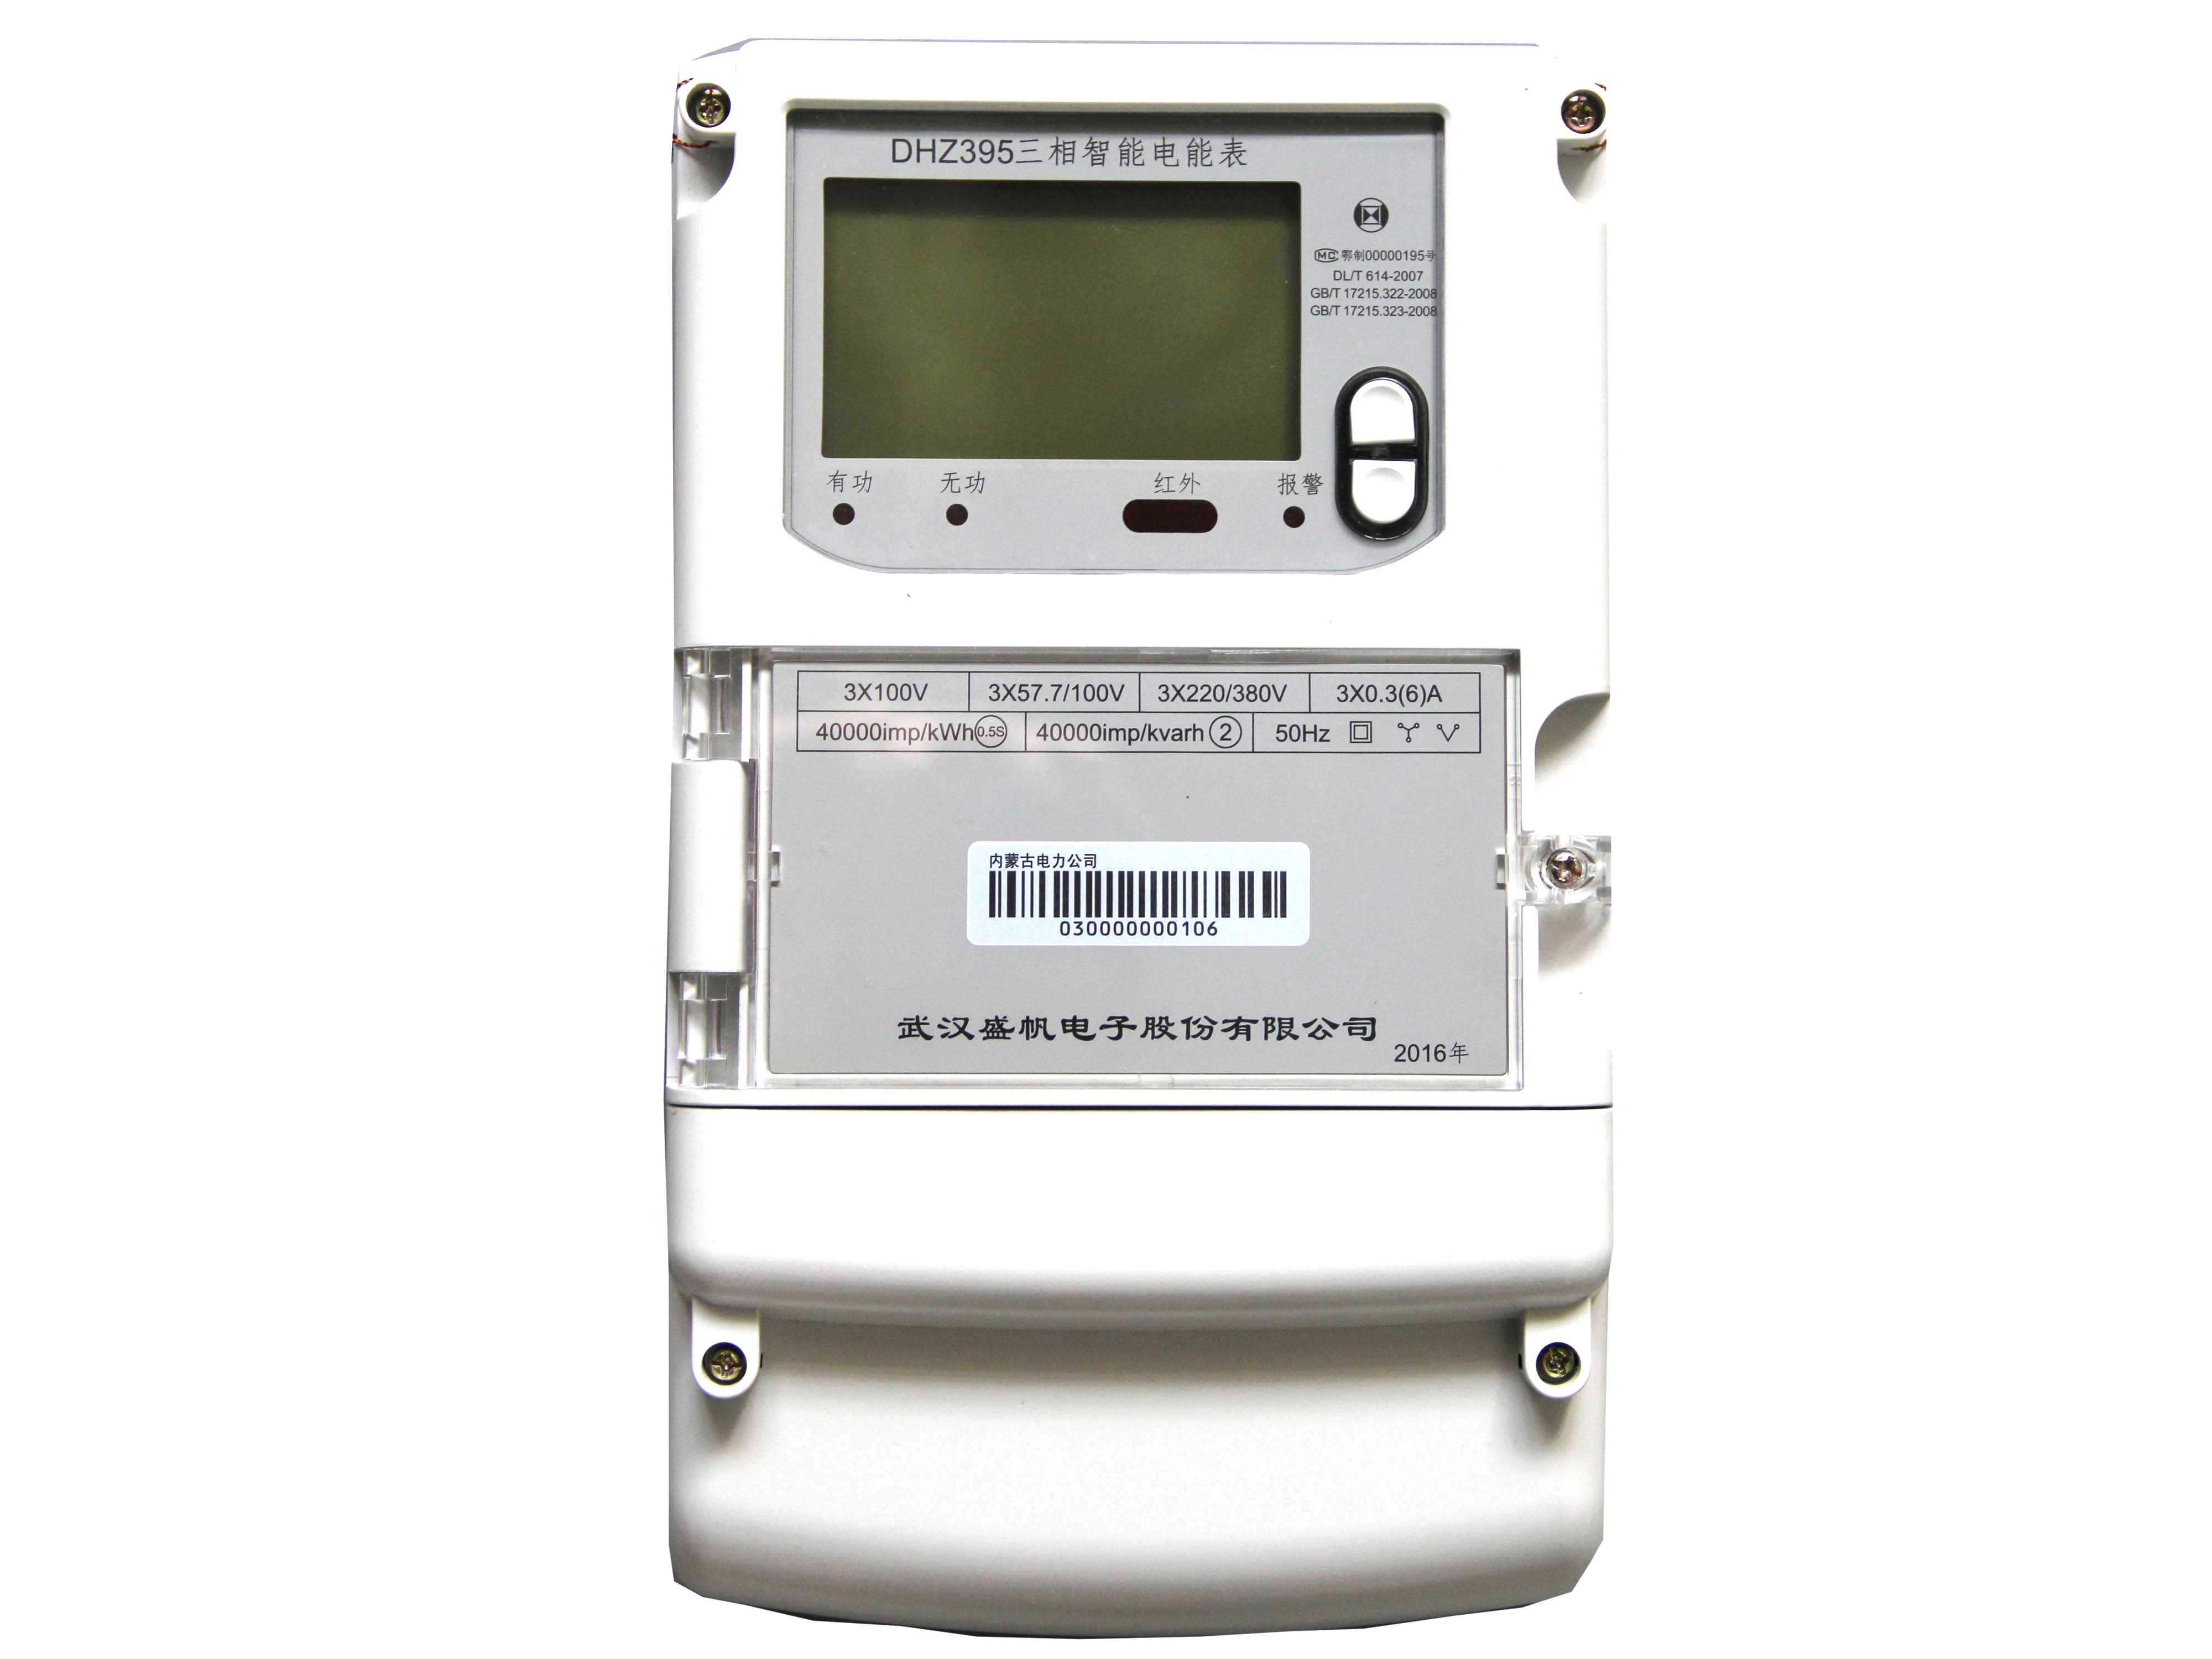digital: (669, 37, 1613, 1290)
